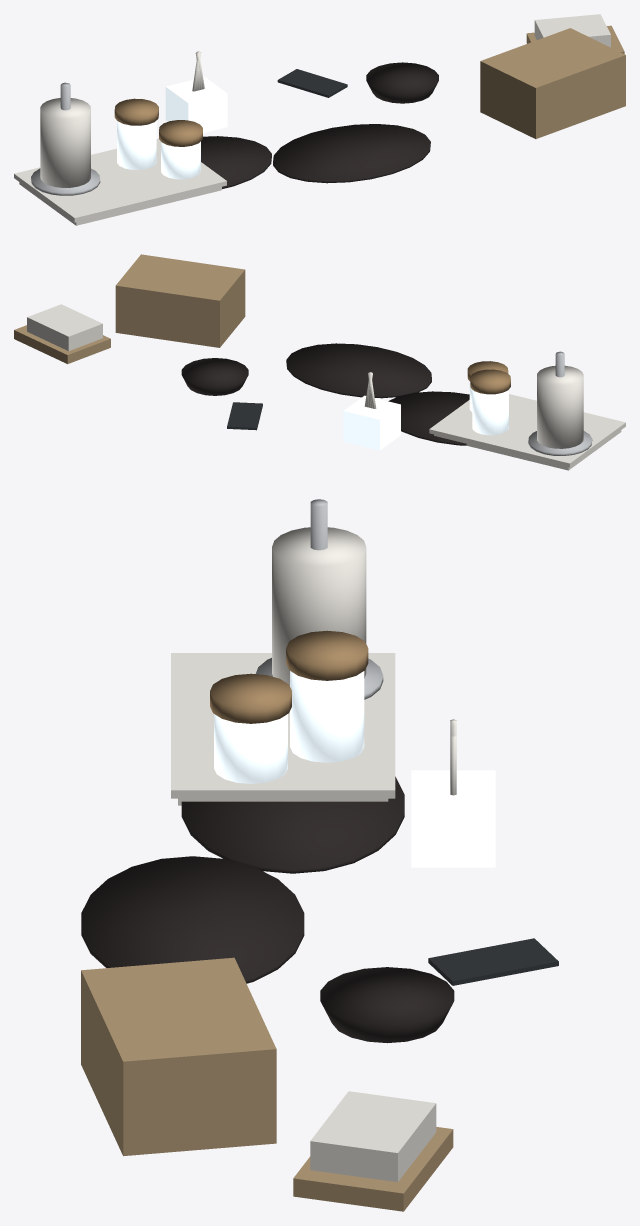
Rendered from Dining_Table_Decor.glb.
3 renders of one model, top to bottom at view 1: azimuth 30°, elevation 25°; view 2: azimuth 150°, elevation 25°; view 3: azimuth 270°, elevation 25°, orthographic. The views are drawn at different scales.
Parts seen in each view (by area): view 1: root; view 2: root; view 3: root.
Part boxes in pixels (left/top/right/bottom): root: left=14, top=14, right=625, bottom=225; root: left=14, top=254, right=625, bottom=470; root: left=81, top=499, right=558, bottom=1211.
Size of the model in its own units: 1.94 by 0.3292 by 0.7266.
